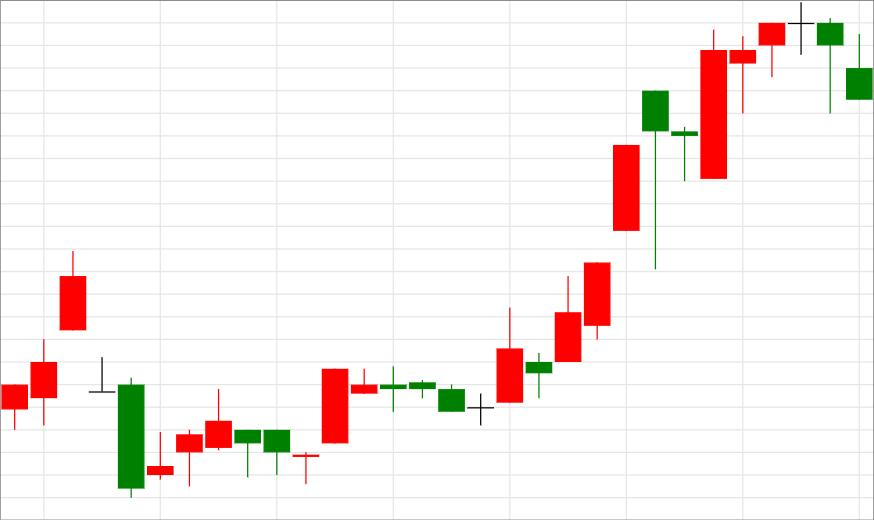hanging_man_fall: (467, 92, 669, 425)
